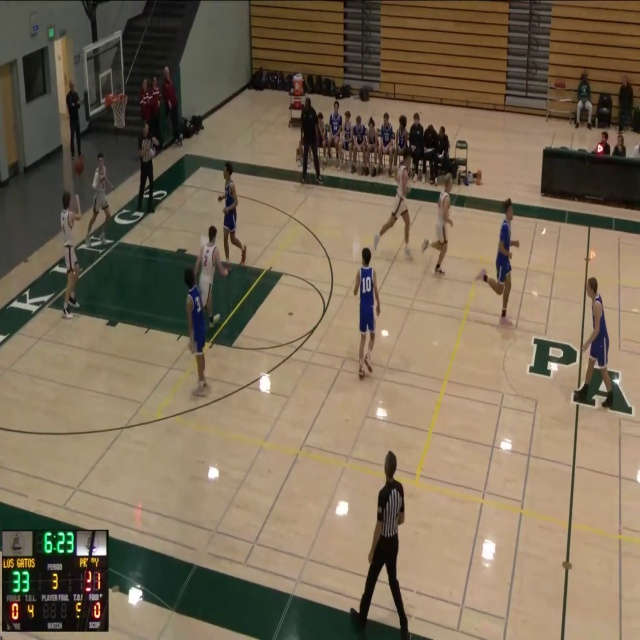Basketball: (73, 156, 84, 174)
